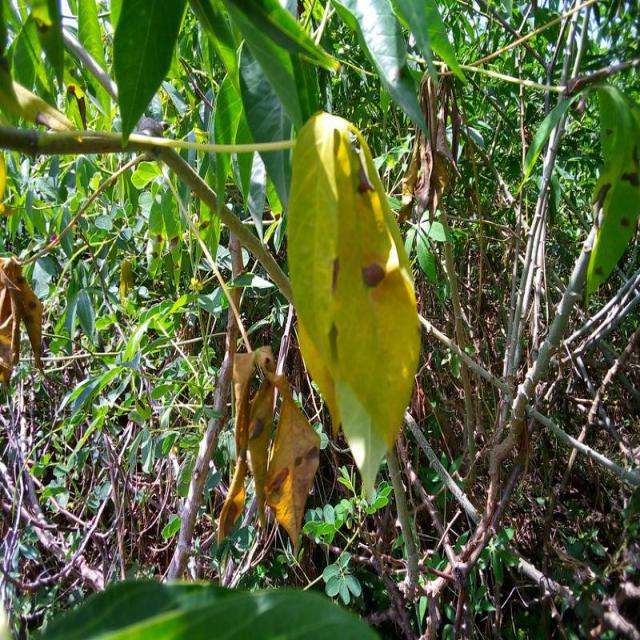Mosaico: (281, 122, 445, 466), (201, 321, 382, 524), (0, 234, 75, 372)
